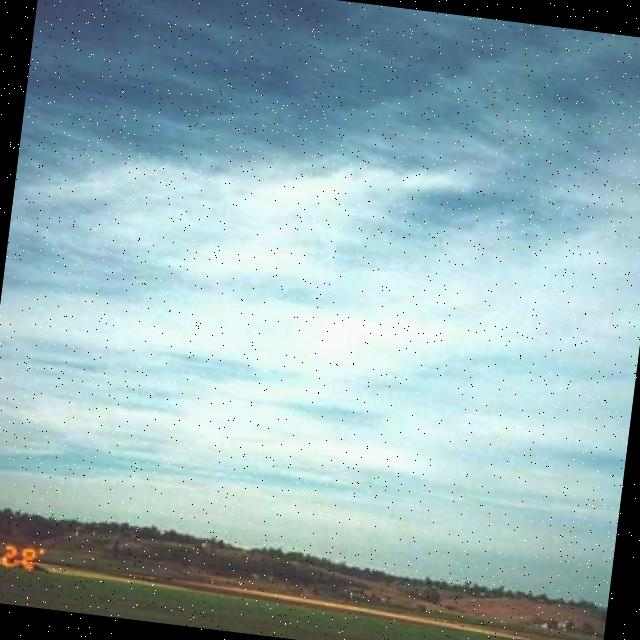Cs: (1, 35, 640, 588)
